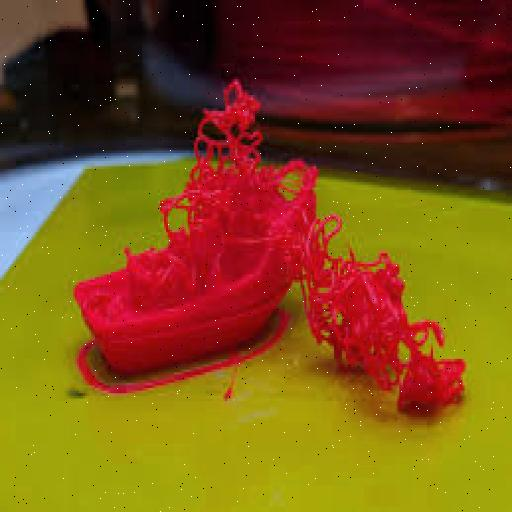spaghetti: (131, 99, 459, 393)
